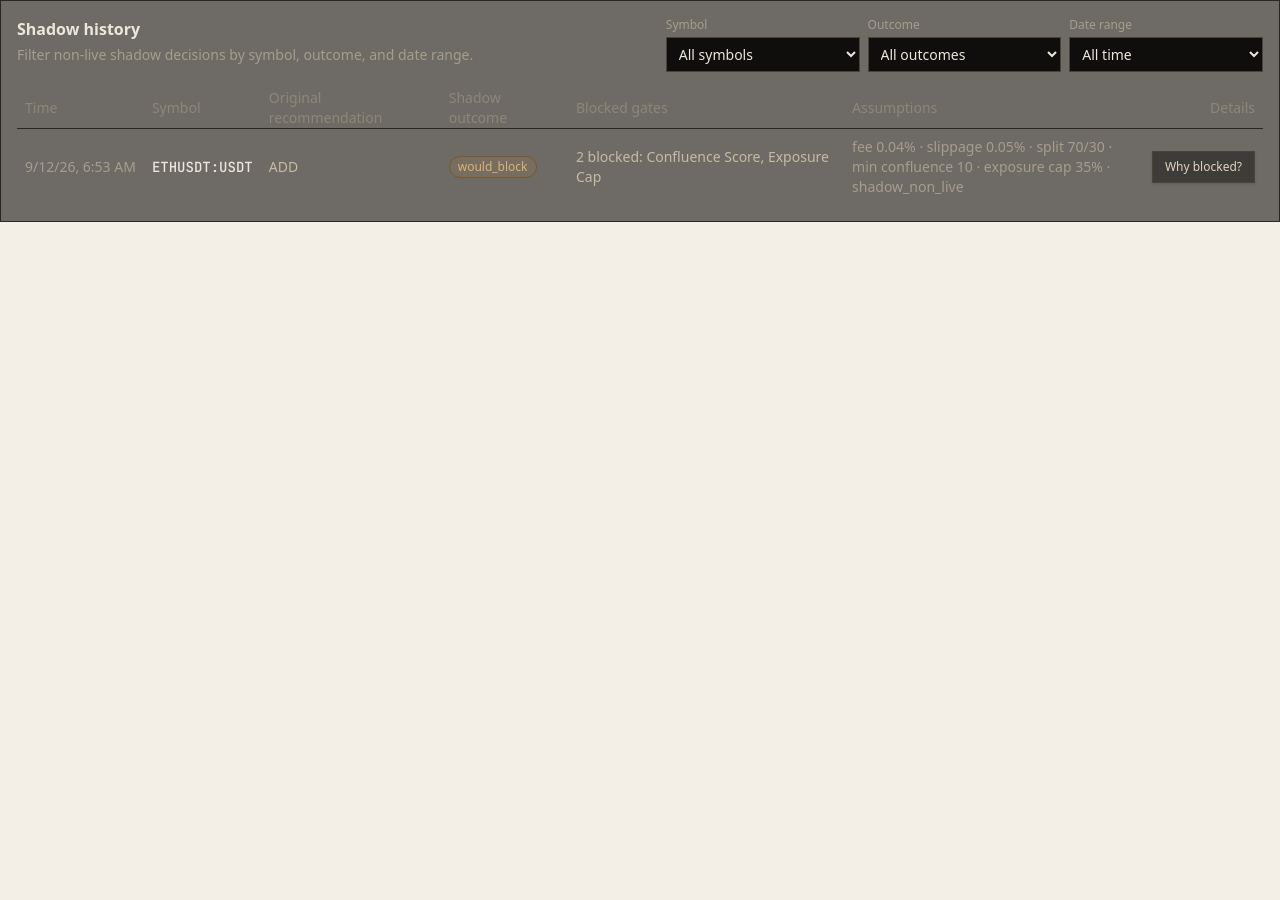
Test: DCA validation panels › displays blocked reason details with gate-by-gate pass/fail breakdown
Check: the table named "Shadow history" is shown, box [17,88,1263,205]
Check: the text "would_block" is shown, box [449,156,536,178]
Click the button with aria-label "Show blocked safety gates for ETHUSDT:USDT" at (1203, 167), box [1152,151,1255,183]
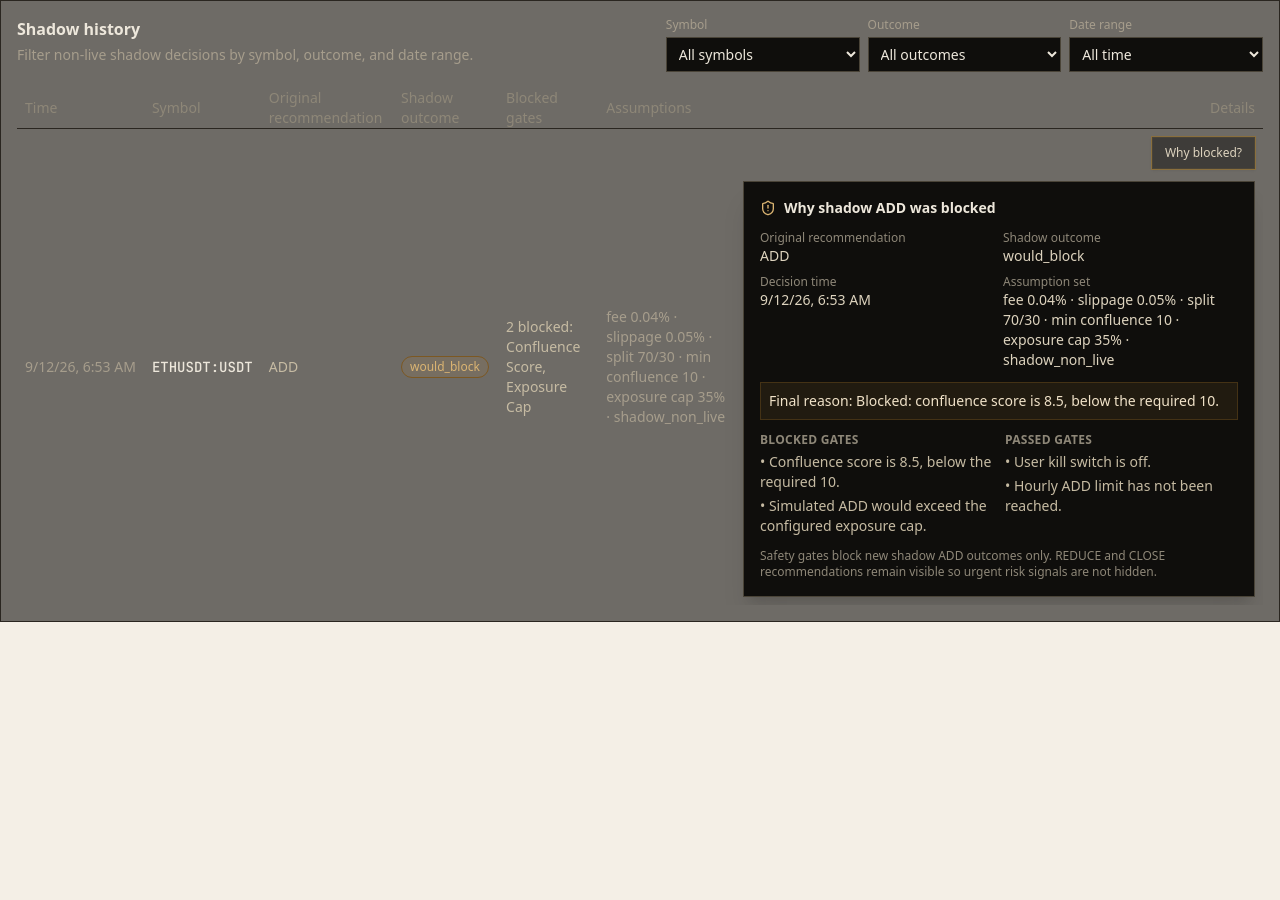
Check: the heading "Why shadow ADD was blocked" is shown, box [760,198,996,217]
Check: the heading "Passed gates" is shown, box [1005,431,1092,448]
Check: the text "Blocked: confluence score is 8.5, below the required 10." is shown, box [856,391,1219,410]
